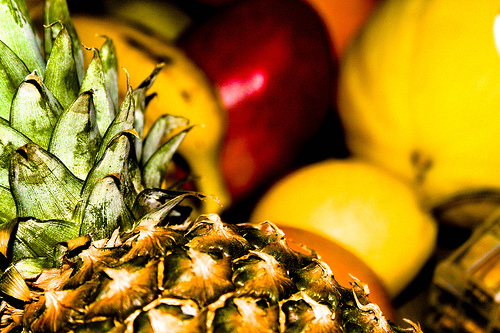pineapple: (0, 0, 422, 332)
